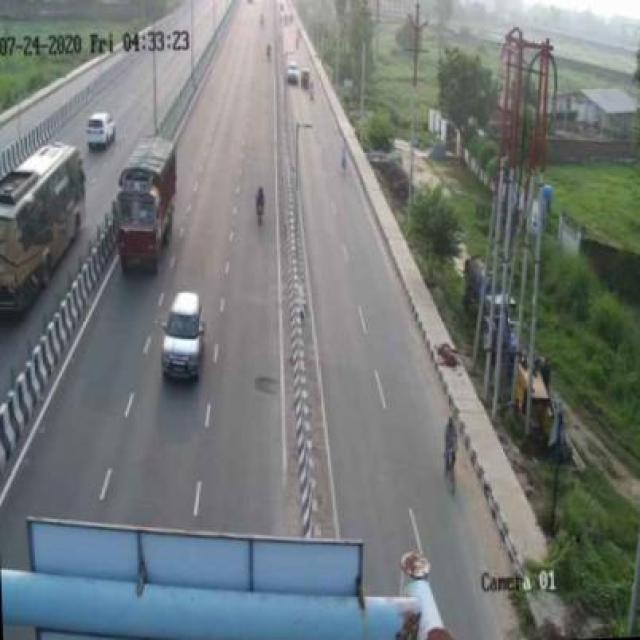car: (161, 282, 221, 384)
